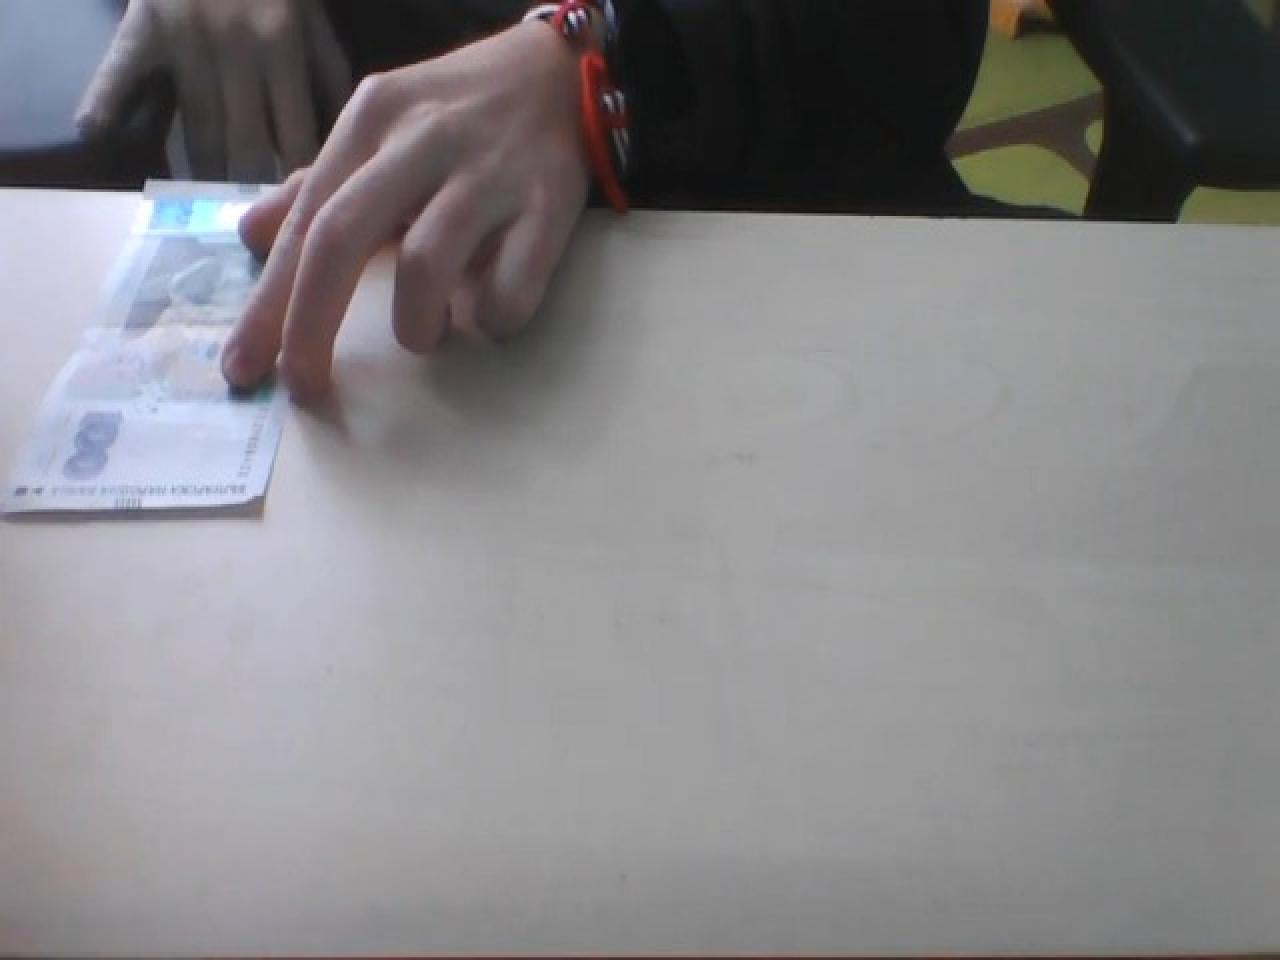100leva: (6, 173, 288, 517)
